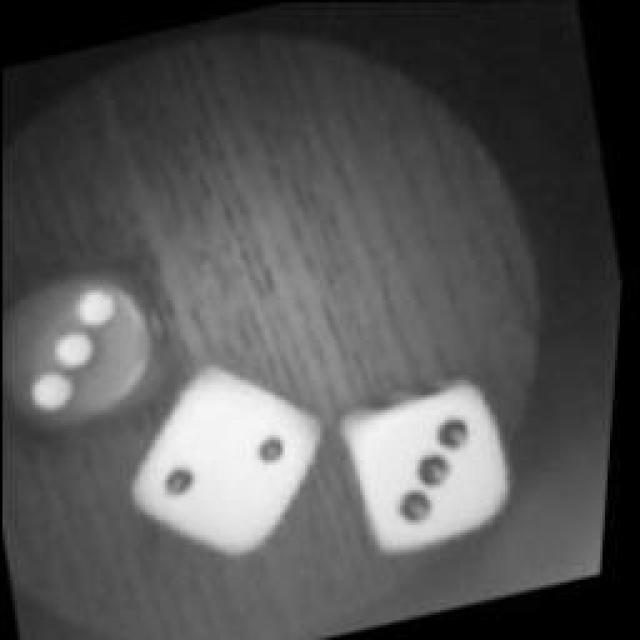dice_2: (102, 341, 358, 581)
dice_3: (322, 362, 542, 572), (0, 235, 210, 453)
